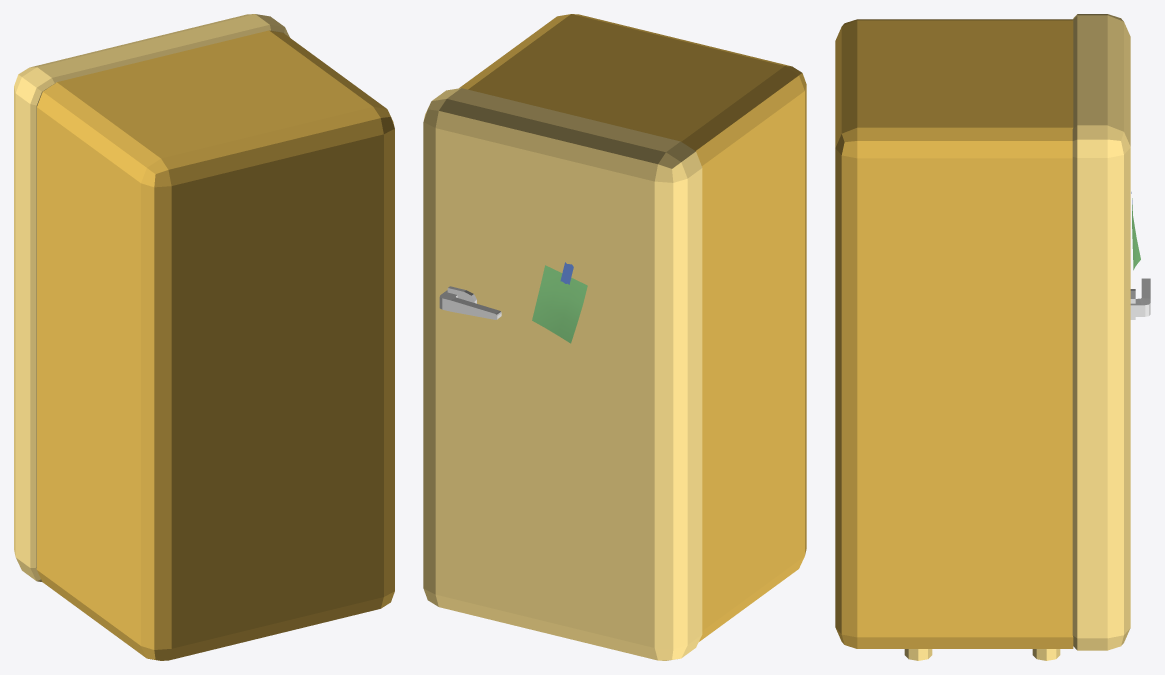
File: Refrigerator 2.fbx
3 renders of one model, left to right at view 1: azimuth 30°, elevation 25°; view 2: azimuth 150°, elevation 25°; view 3: azimuth 270°, elevation 25°, orthographic. The views are drawn at different scales.
Parts seen in each view (by area): view 1: Node 1, Node 0; view 2: Node 0, Node 1; view 3: Node 1, Node 0.
Boxes of the visible parts, x1,y1,x2,y2 form: Node 1: (36, 30, 394, 660); Node 0: (14, 14, 289, 582); Node 0: (423, 88, 702, 660); Node 1: (459, 14, 806, 641); Node 1: (835, 19, 1073, 660); Node 0: (1072, 14, 1150, 650).
Bounding box in the file's own units: 1.45 × 2.78 × 1.47.
